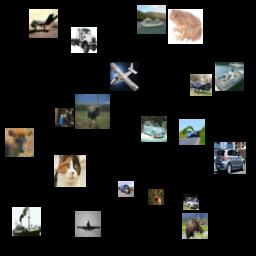airplane: (110, 62, 139, 91), (29, 9, 58, 38), (75, 211, 101, 237), (190, 74, 212, 96)
automobile: (214, 142, 246, 174), (141, 116, 167, 142), (183, 194, 199, 210)
bird: (75, 94, 110, 129), (55, 108, 74, 127)
cat: (54, 155, 86, 187)
deer: (5, 128, 34, 157), (182, 213, 208, 239), (148, 189, 164, 205)
frog: (168, 9, 203, 44)
ship: (215, 62, 244, 91), (137, 5, 166, 34), (12, 207, 41, 236)
truck: (71, 27, 97, 53), (179, 119, 205, 145), (118, 181, 134, 197)
